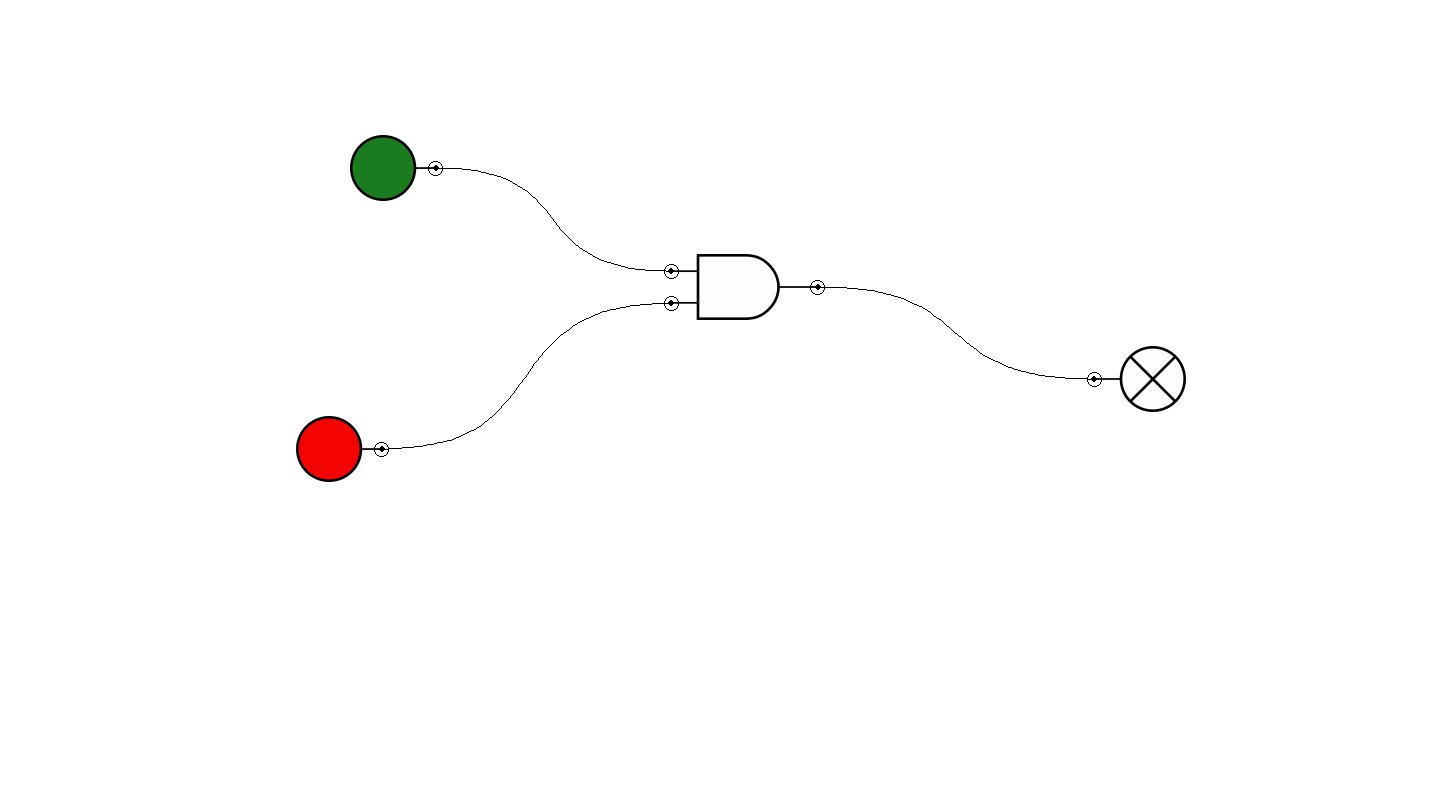and: (664, 254, 825, 320)
bulb: (1087, 346, 1186, 412)
switch_False: (296, 416, 389, 482)
switch_True: (350, 135, 443, 201)
